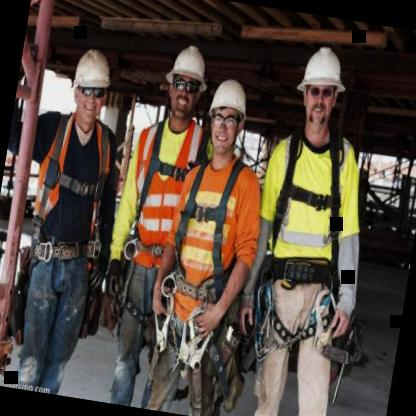helmet: (288, 39, 352, 143), (158, 36, 214, 127), (63, 40, 120, 129), (200, 71, 257, 159)
